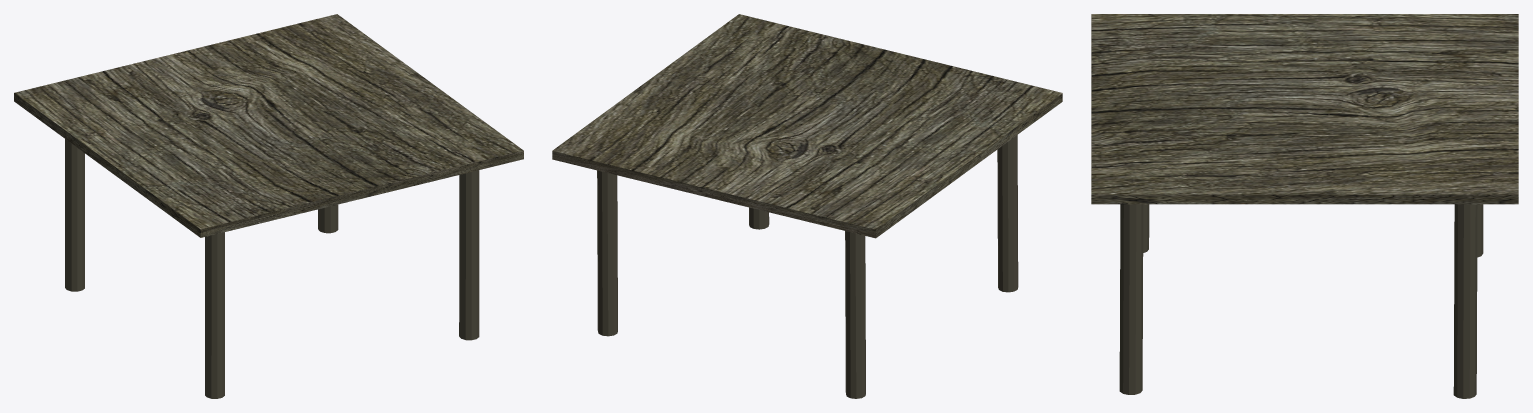
File: blendergltfDesk.gltf
3 views of the same model, side by side, from view 1: azimuth 30°, elevation 25°; view 2: azimuth 150°, elevation 25°; view 3: azimuth 270°, elevation 25° (orthographic). The views are drawn at different scales.
Parts seen in each view (by area): view 1: group2; view 2: group2; view 3: group2.
Boxes of the visible parts, x1,y1,x2,y2 form: group2: (14,14,523,398); group2: (552,14,1062,398); group2: (1091,14,1518,398).
Bounding box in the file's own units: 1.29 × 0.7242 × 1.29.
Materials: 1 (1 with a texture image).
